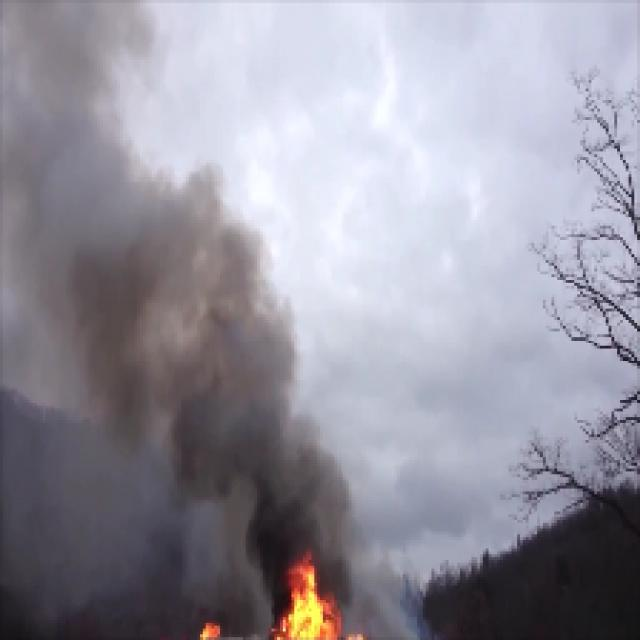fire: (269, 557, 354, 640)
smoke: (3, 2, 158, 596), (161, 170, 287, 505), (288, 419, 347, 546)
